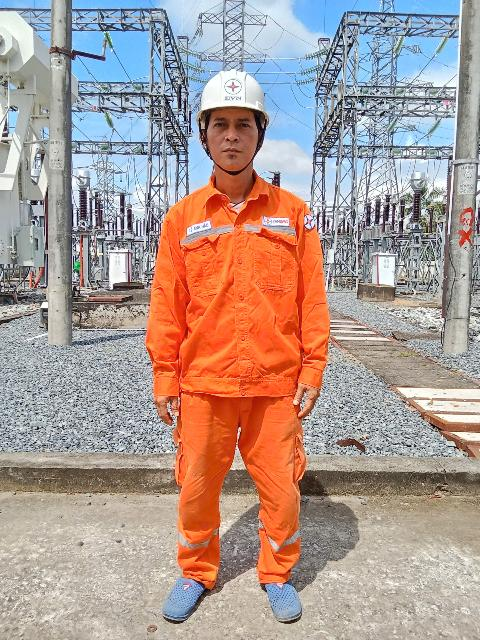helmet: (193, 68, 287, 118)
shoes: (153, 564, 212, 622), (249, 576, 308, 622)
